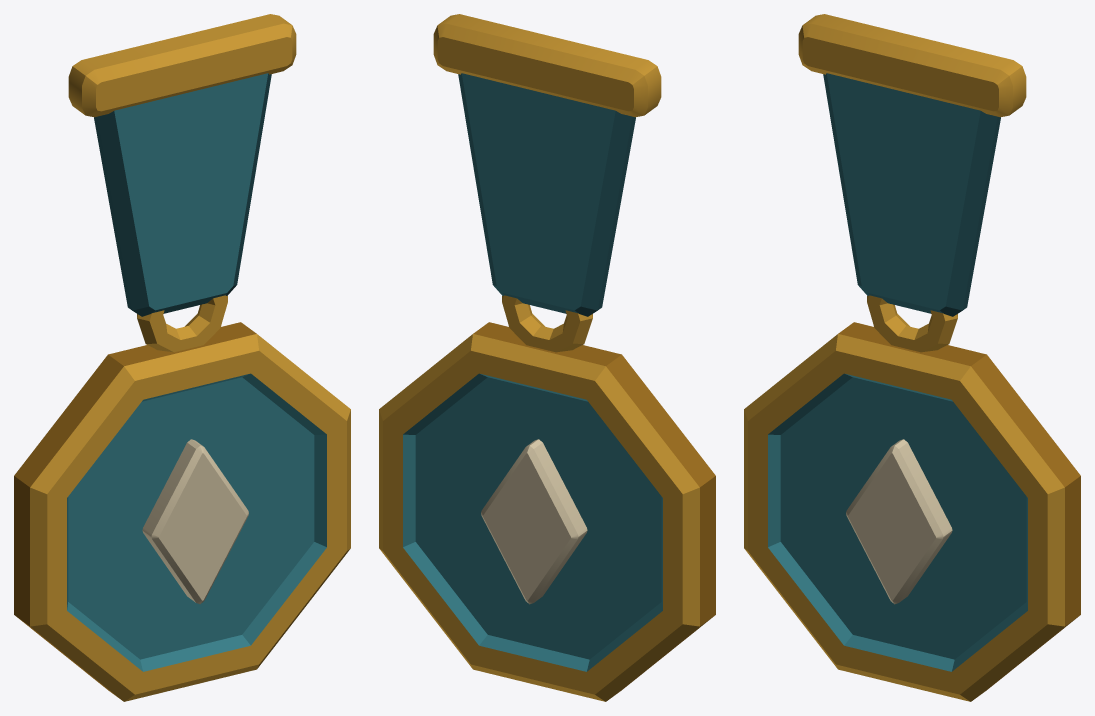
The model's file is Medal_12.glb.
3 views of the same model, side by side, from view 1: azimuth 30°, elevation 25°; view 2: azimuth 150°, elevation 25°; view 3: azimuth 330°, elevation 25° (orthographic).
Visible parts, largest first — view 1: Medal_12; view 2: Medal_12; view 3: Medal_12.
Part boxes in pixels (x1,y1,x2,y2): Medal_12: (14,14,350,701); Medal_12: (379,14,715,701); Medal_12: (744,14,1080,701).
Size of the model in its own units: 1.27 by 2.41 by 0.28.
